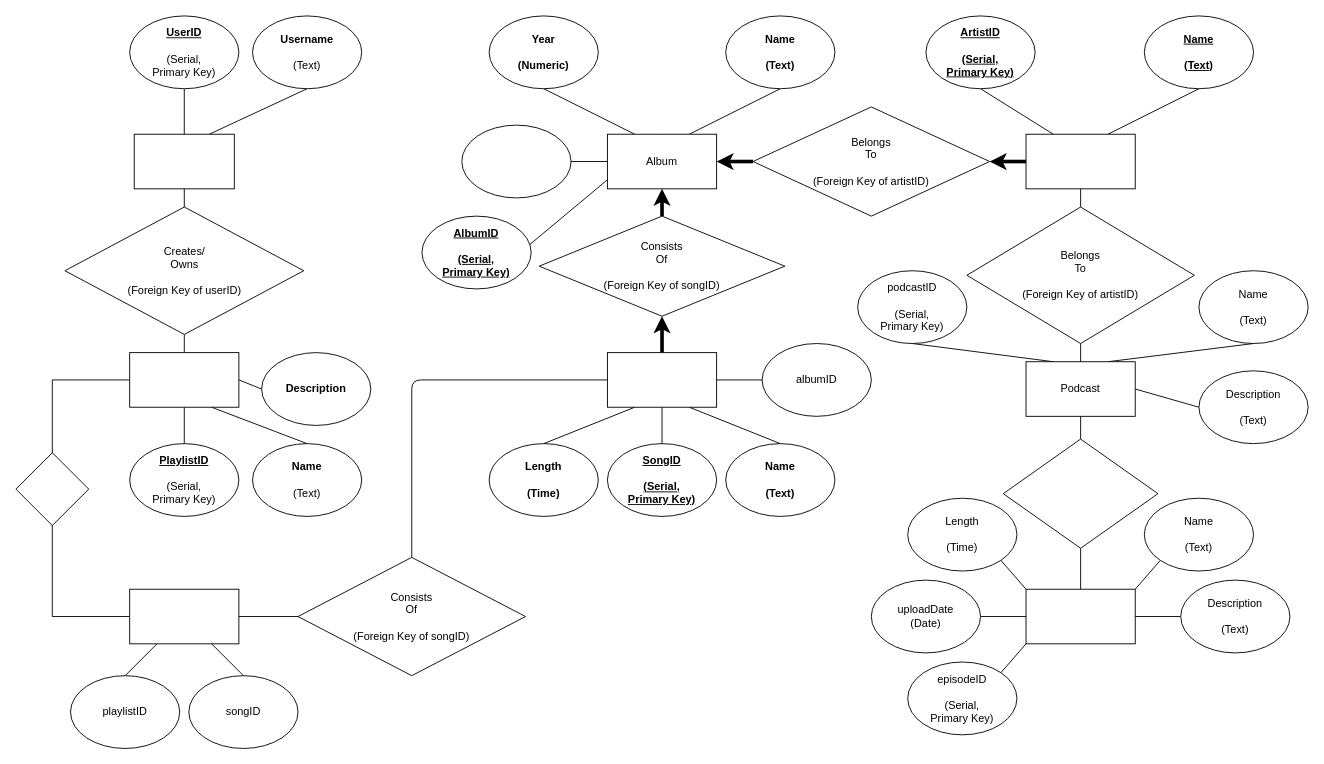
This 1324x764 diagram has some shape labels left out. The centre of each missing label's shape, as x and y in pixels:
"Artist" belongs at (1080,161).
"Belongs To (Foreign Key of podcastID)" belongs at (1080,493).
"Episode" belongs at (1080,616).
"Has" belongs at (52,489).
"Playlist" belongs at (184,379).
"Playlist Contents" belongs at (184,616).
"Single? (Boolean)" belongs at (516,161).
"Song" belongs at (662,379).
"User" belongs at (183,161).
